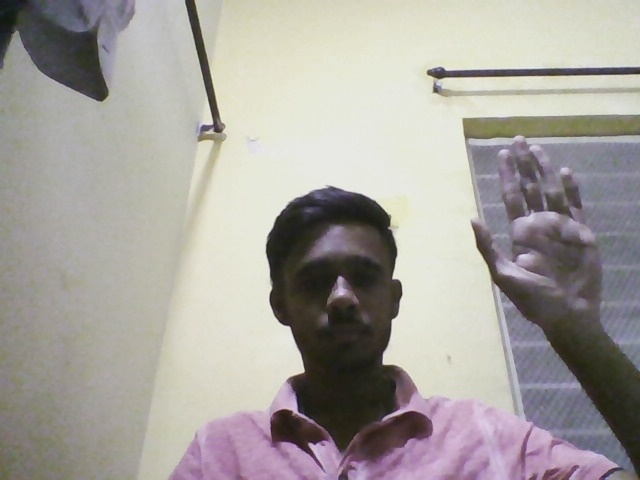hello: (459, 129, 621, 333)
